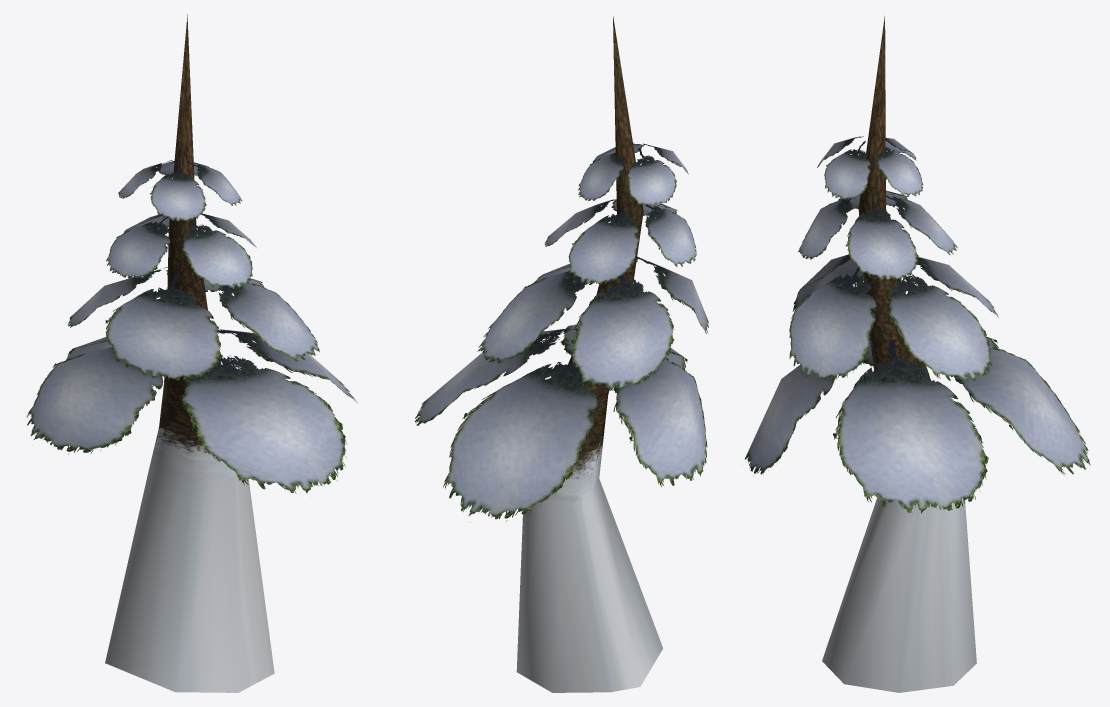
File: Tree2.FBX
3 views of the same model, side by side, from view 1: azimuth 30°, elevation 25°; view 2: azimuth 150°, elevation 25°; view 3: azimuth 270°, elevation 25° (orthographic). The views are drawn at different scales.
Parts seen in each view (by area): view 1: Tree; view 2: Tree; view 3: Tree.
Boxes of the visible parts, x1,y1,x2,y2 form: Tree: (26, 14, 357, 692); Tree: (415, 16, 708, 692); Tree: (745, 16, 1090, 692).
Bounding box in the file's own units: 80.13 × 83.23 × 166.
Materials: 2 (2 with a texture image).
